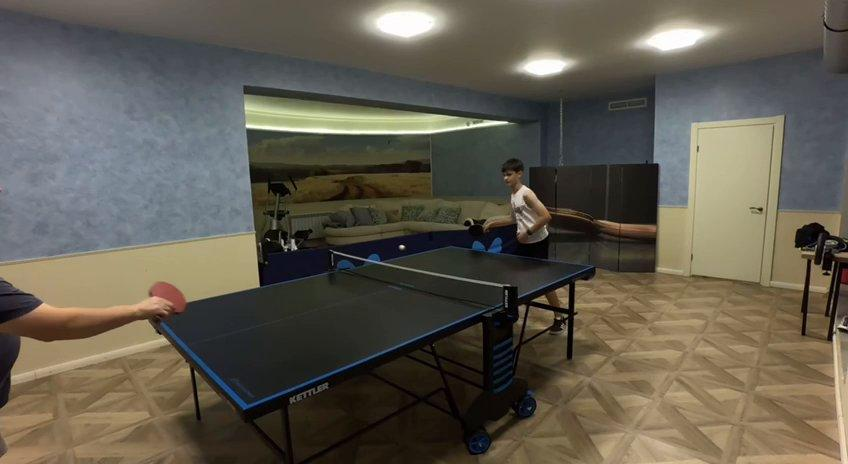Ball: (398, 243, 406, 251)
Net: (330, 251, 517, 317)
Player1: (484, 159, 551, 258)
Player2: (0, 277, 150, 408)
Table: (148, 247, 595, 410)
